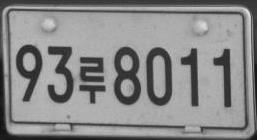0: (145, 45, 173, 106)
1: (211, 48, 241, 108), (178, 46, 206, 107)
3: (46, 45, 74, 103)
8: (112, 45, 142, 105)
9: (14, 43, 43, 103)
루: (79, 55, 106, 105)
